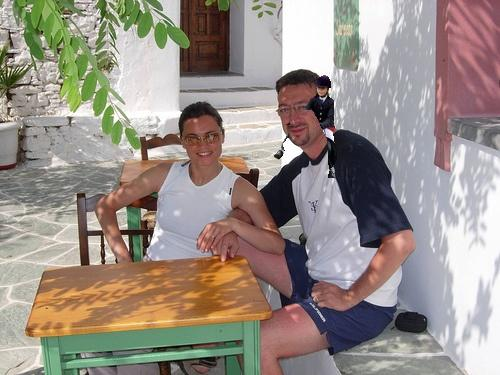tampered: (274, 76, 337, 178)
